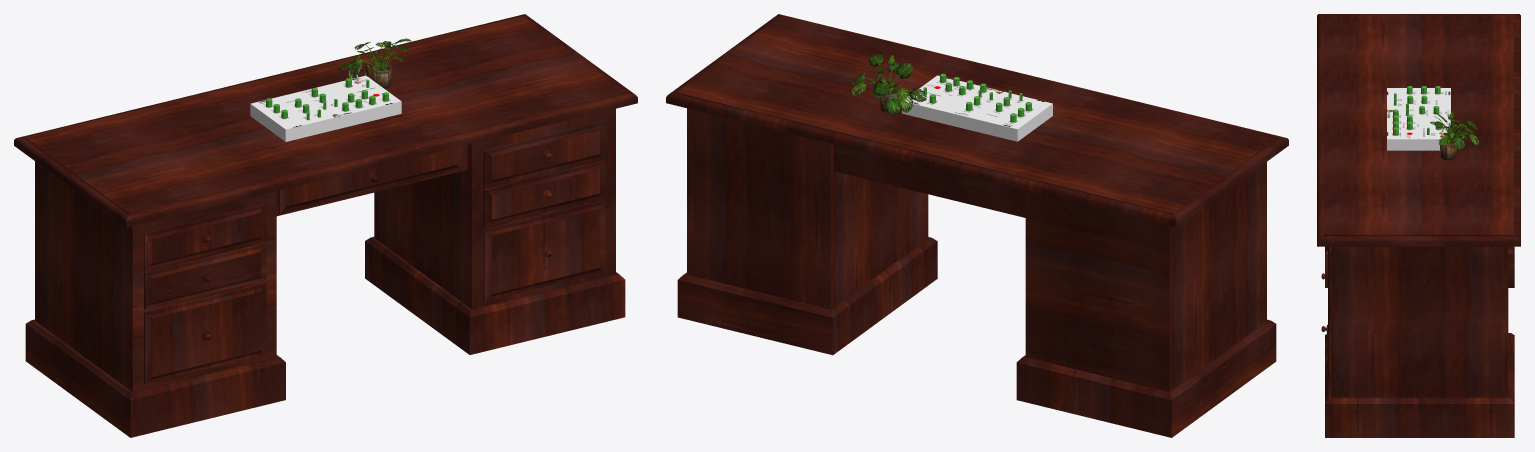
Rendered from kitskeys.glb.
The picture shows the model from 3 angles, left to right: view 1: azimuth 30°, elevation 25°; view 2: azimuth 150°, elevation 25°; view 3: azimuth 270°, elevation 25°; orthographic projection. The views are drawn at different scales.
Visible parts, largest first — view 1: wooden_desk_01, #mybox, plante; view 2: wooden_desk_01, #mybox, plante; view 3: wooden_desk_01, #mybox, plante.
Boxes of the visible parts, <box> form: wooden_desk_01: <box>14,14,637,437</box>; #mybox: <box>250,75,401,141</box>; plante: <box>338,38,411,88</box>; wooden_desk_01: <box>666,14,1288,437</box>; #mybox: <box>902,75,1052,141</box>; plante: <box>852,54,926,114</box>; wooden_desk_01: <box>1317,14,1520,437</box>; #mybox: <box>1387,88,1450,150</box>; plante: <box>1430,112,1479,159</box>.
Size of the model in its own units: 1.13 by 0.5764 by 0.4307.
6 materials, 3 textured.
